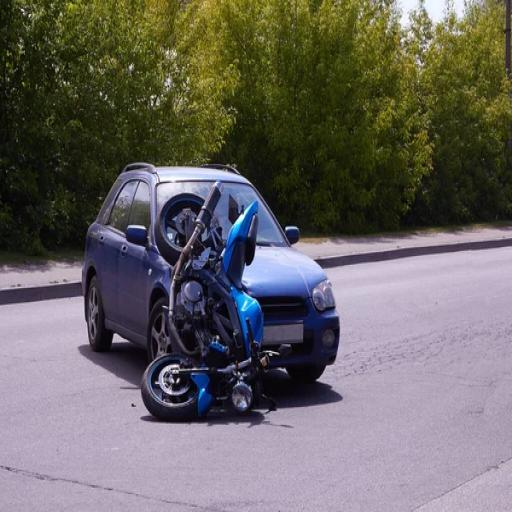小汽车撞自行车: (84, 154, 345, 426)
